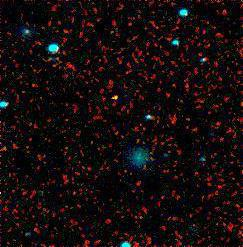star: (104, 82, 134, 112)
